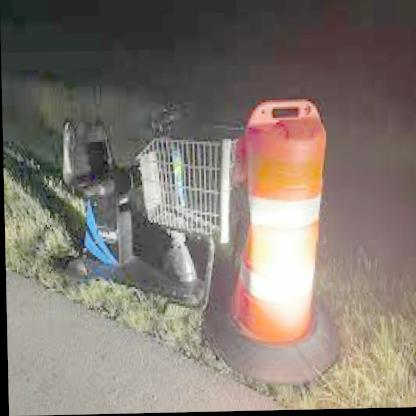obstacle: (237, 125, 331, 345)
